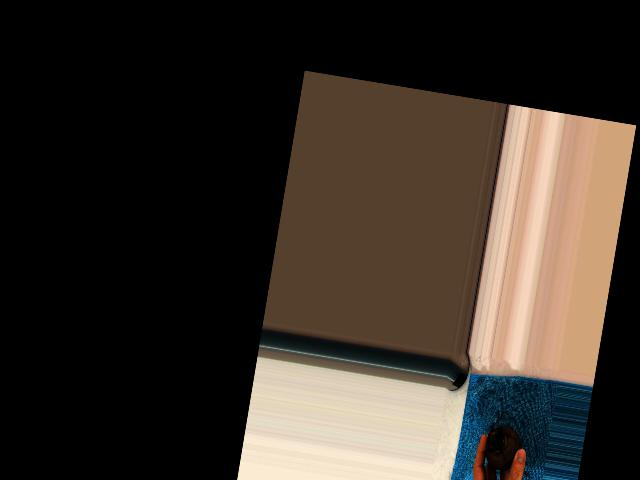beet: (482, 409, 541, 478)
